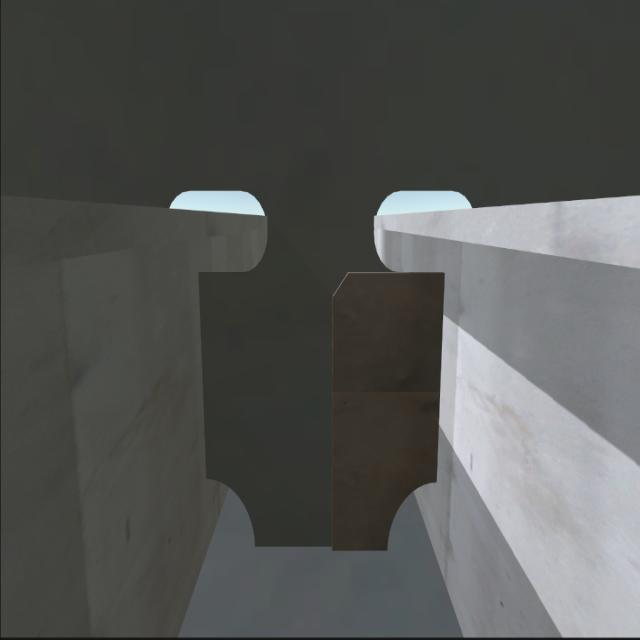fillet_hole: (385, 474, 438, 554), (208, 476, 256, 554)
fillet_yong_jeop_jang: (250, 532, 394, 560)
longi_yong_jeop_jang: (194, 264, 218, 483), (428, 267, 448, 485)
plate_CP03: (328, 263, 447, 557)
